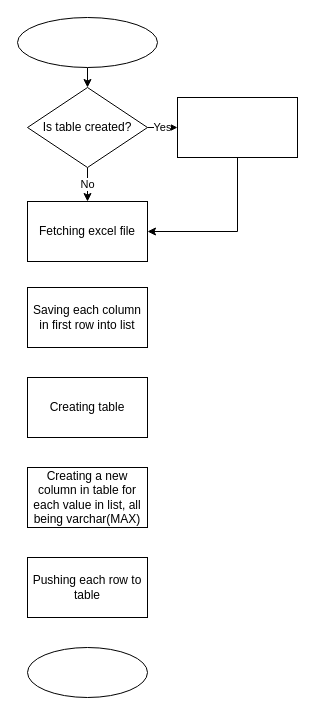
This 315x715 diagram has some shape labels left out. The shapes that lost their labels are listed below. From the top down, each one's box as (x1, y1, x2, y2) in pixels, then its label:
(16, 16, 158, 68): Program is started
(176, 96, 298, 158): Deleting table
(26, 646, 148, 698): Printing
